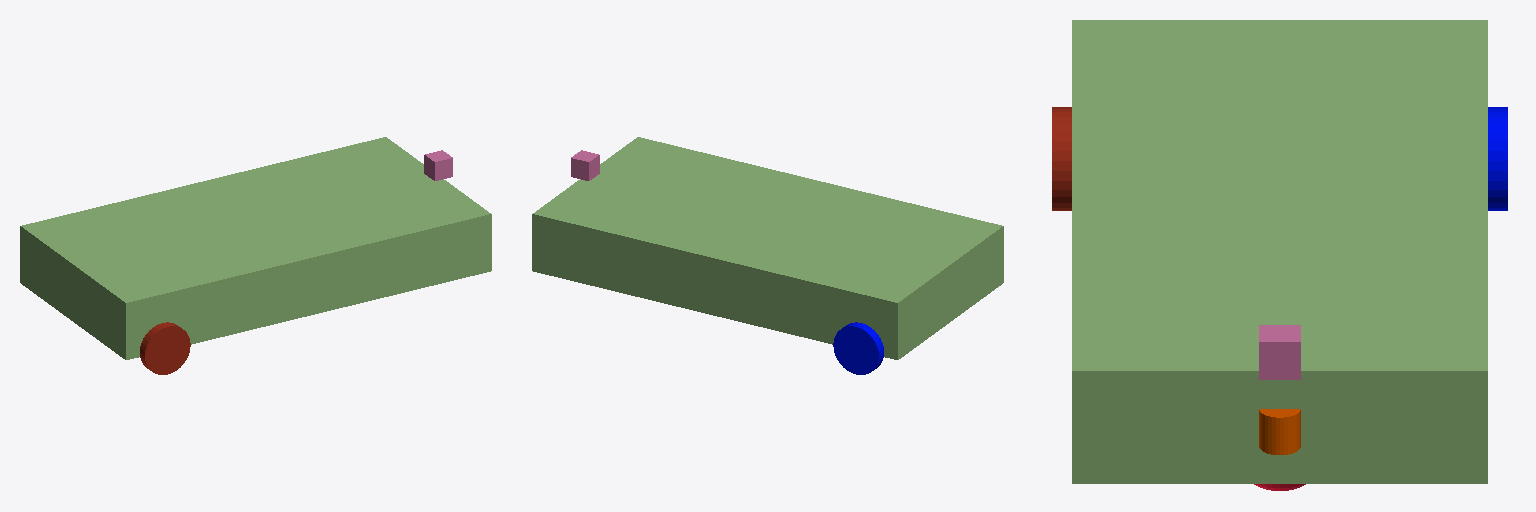
URDF robot description (mobile_base):
<?xml version="1.0" ?>
<robot name="mobile_base">
  <link name="chassis">
    <inertial>
      <mass value="20.0"/>
      <origin xyz="0 0 0" rpy="0.0 -0.0 0.0"/>
      <inertia ixx="1.8166666666666667" iyy="6.8166666666666655" izz="8.333333333333332" ixy="0.0" ixz="0.0" iyz="0.0"/>
    </inertial>
    <visual name="visual">
      <origin xyz="0 0 0" rpy="0.0 -0.0 0.0"/>
      <geometry>
        <box size="2 1 0.3"/>
      </geometry>
      <material name="">
        <color rgba="0.5607843137254902 0.7137254901960784 0.4823529411764706 1"/>
      </material>
    </visual>
    <collision name="collision">
      <origin xyz="0 0 0" rpy="0.0 -0.0 0.0"/>
      <geometry>
        <box size="2 1 0.3"/>
      </geometry>
    </collision>
  </link>
  <link name="caster_wheel">
    <inertial>
      <mass value="1.0"/>
      <origin xyz="0 0 0" rpy="0.0 -0.0 0.0"/>
      <inertia ixx="0.00625" iyy="0.00625" izz="0.00625" ixy="0.0" ixz="0.0" iyz="0.0"/>
    </inertial>
    <visual name="visual">
      <origin xyz="0 0 0" rpy="0.0 -0.0 0.0"/>
      <geometry>
        <sphere radius="0.125"/>
      </geometry>
      <material name="">
        <color rgba="0.9882352941176471 0.14901960784313725 0.2784313725490196 1"/>
      </material>
    </visual>
    <collision name="collision">
      <origin xyz="0 0 0" rpy="0.0 -0.0 0.0"/>
      <geometry>
        <sphere radius="0.125"/>
      </geometry>
    </collision>
  </link>
  <link name="left_wheel">
    <inertial>
      <mass value="1.0"/>
      <origin xyz="0 0 0" rpy="0.0 -0.0 0.0"/>
      <inertia ixx="0.004114583333333333" iyy="0.004114583333333333" izz="0.0078125" ixy="0.0" ixz="0.0" iyz="0.0"/>
    </inertial>
    <visual name="visual">
      <origin xyz="0 0 0" rpy="0.0 -0.0 0.0"/>
      <geometry>
        <cylinder radius="0.125" length="0.05"/>
      </geometry>
      <material name="">
        <color rgba="0.00784313725490196 0.10588235294117647 0.9764705882352941 1"/>
      </material>
    </visual>
    <collision name="collision">
      <origin xyz="0 0 0" rpy="0.0 -0.0 0.0"/>
      <geometry>
        <cylinder radius="0.125" length="0.05"/>
      </geometry>
    </collision>
  </link>
  <link name="right_wheel">
    <inertial>
      <mass value="1.0"/>
      <origin xyz="0 0 0" rpy="0.0 -0.0 0.0"/>
      <inertia ixx="0.004114583333333333" iyy="0.004114583333333333" izz="0.0078125" ixy="0.0" ixz="0.0" iyz="0.0"/>
    </inertial>
    <visual name="visual">
      <origin xyz="0 0 0" rpy="0.0 -0.0 0.0"/>
      <geometry>
        <cylinder radius="0.125" length="0.05"/>
      </geometry>
      <material name="">
        <color rgba="0.6274509803921569 0.21176470588235294 0.13725490196078433 1"/>
      </material>
    </visual>
    <collision name="collision">
      <origin xyz="0 0 0" rpy="0.0 -0.0 0.0"/>
      <geometry>
        <cylinder radius="0.125" length="0.05"/>
      </geometry>
    </collision>
  </link>
  <link name="imu_link">
    <inertial>
      <mass value="0.01"/>
      <origin xyz="0 0 0" rpy="0.0 -0.0 0.0"/>
      <inertia ixx="1.6666666666666667e-05" iyy="1.6666666666666667e-05" izz="1.6666666666666667e-05" ixy="0.0" ixz="0.0" iyz="0.0"/>
    </inertial>
    <visual name="visual">
      <origin xyz="0 0 0" rpy="0.0 -0.0 0.0"/>
      <geometry>
        <box size="0.1 0.1 0.1"/>
      </geometry>
    </visual>
    <collision name="collision">
      <origin xyz="0 0 0" rpy="0.0 -0.0 0.0"/>
      <geometry>
        <box size="0.1 0.1 0.1"/>
      </geometry>
    </collision>
  </link>
  <link name="contact_link">
    <inertial>
      <mass value="0.01"/>
      <origin xyz="0 0 0" rpy="0.0 -0.0 0.0"/>
      <inertia ixx="1.4583333333333333e-05" iyy="1.4583333333333333e-05" izz="1.2500000000000002e-05" ixy="0.0" ixz="0.0" iyz="0.0"/>
    </inertial>
    <visual name="visual">
      <origin xyz="0 0 0" rpy="0.0 -0.0 0.0"/>
      <geometry>
        <cylinder radius="0.05" length="0.1"/>
      </geometry>
    </visual>
    <collision name="collision">
      <origin xyz="0 0 0" rpy="0.0 -0.0 0.0"/>
      <geometry>
        <cylinder radius="0.05" length="0.1"/>
      </geometry>
    </collision>
  </link>
  <link name="camera_link">
    <inertial>
      <mass value="0.01"/>
      <origin xyz="0 0 0" rpy="0.0 -0.0 0.0"/>
      <inertia ixx="1.6666666666666667e-05" iyy="1.6666666666666667e-05" izz="1.6666666666666667e-05" ixy="0.0" ixz="0.0" iyz="0.0"/>
    </inertial>
    <visual name="visual">
      <origin xyz="0 0 0" rpy="0.0 -0.0 0.0"/>
      <geometry>
        <box size="0.1 0.1 0.1"/>
      </geometry>
    </visual>
    <collision name="collision">
      <origin xyz="0 0 0" rpy="0.0 -0.0 0.0"/>
      <geometry>
        <box size="0.1 0.1 0.1"/>
      </geometry>
    </collision>
  </link>
  <joint name="caster_wheel_joint" type="fixed">
    <parent link="chassis"/>
    <child link="caster_wheel"/>
    <limit lower="0" upper="0" effort="0" velocity="0"/>
    <origin xyz="0.8 0.0 -0.125" rpy="0.0 -0.0 0.0"/>
  </joint>
  <joint name="left_wheel_joint" type="revolute">
    <parent link="chassis"/>
    <child link="left_wheel"/>
    <limit lower="-1e+16" upper="1e+16" effort="-1.0" velocity="-1.0"/>
    <axis xyz="0 0 1"/>
    <dynamics damping="0.0" friction="0.0"/>
    <origin xyz="-0.8 0.525 -0.125" rpy="5.762794389300482e-13 1.5706999999999998 1.5706999999997604"/>
  </joint>
  <joint name="right_wheel_joint" type="revolute">
    <parent link="chassis"/>
    <child link="right_wheel"/>
    <limit lower="-1e+16" upper="1e+16" effort="-1.0" velocity="-1.0"/>
    <axis xyz="0 0 1"/>
    <dynamics damping="0.0" friction="0.0"/>
    <origin xyz="-0.8 -0.525 -0.125" rpy="5.762794389300482e-13 1.5706999999999998 1.5706999999997604"/>
  </joint>
  <joint name="imu_joint" type="fixed">
    <parent link="chassis"/>
    <child link="imu_link"/>
    <limit lower="0" upper="0" effort="0" velocity="0"/>
    <origin xyz="0.0 0.0 0.0" rpy="0.0 -0.0 0.0"/>
  </joint>
  <joint name="contact_joint" type="fixed">
    <parent link="chassis"/>
    <child link="contact_link"/>
    <limit lower="0" upper="0" effort="0" velocity="0"/>
    <origin xyz="1.0 0.0 0.0" rpy="0.0 -0.0 0.0"/>
  </joint>
  <joint name="camera_joint" type="fixed">
    <parent link="chassis"/>
    <child link="camera_link"/>
    <limit lower="0" upper="0" effort="0" velocity="0"/>
    <origin xyz="1.0 0.0 0.2" rpy="0.0 -0.0 0.0"/>
  </joint>
</robot>

--- What the picture shows (computed from the rendered views, not written in the file) ---
Views: 3 orthographic renders of the robot side by side, from view 1: azimuth 30°, elevation 25°; view 2: azimuth 150°, elevation 25°; view 3: azimuth 270°, elevation 25°.
Model mobile_base with 7 links and 6 joints (2 revolute, 4 fixed), rooted at chassis, posed every joint at zero.
Links seen in each view (by area): view 1: chassis, right_wheel, camera_link; view 2: chassis, left_wheel, camera_link; view 3: chassis, camera_link, left_wheel, right_wheel, contact_link.
Link boxes in pixels (left/top/right/bottom): chassis: left=20, top=137, right=491, bottom=359; right_wheel: left=140, top=322, right=190, bottom=374; camera_link: left=424, top=150, right=452, bottom=180; chassis: left=532, top=137, right=1003, bottom=359; left_wheel: left=833, top=322, right=883, bottom=374; camera_link: left=571, top=150, right=599, bottom=180; chassis: left=1072, top=20, right=1487, bottom=483; camera_link: left=1259, top=325, right=1300, bottom=379; left_wheel: left=1488, top=107, right=1507, bottom=210; right_wheel: left=1052, top=107, right=1071, bottom=210; contact_link: left=1259, top=409, right=1300, bottom=454.
Bounding box of the posed robot: 2.05 × 1.1 × 0.5 m (x, y, z).
Geometry: primitives only (box / cylinder / sphere), no mesh files.